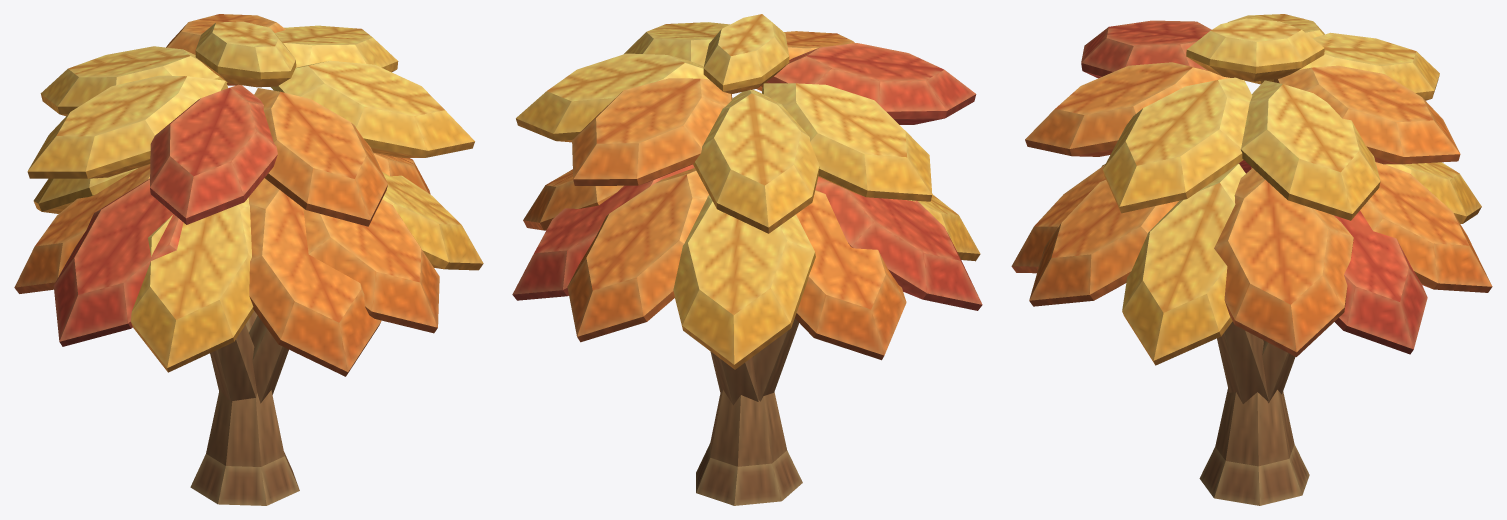
File: autumn_tree.glb
3 views of the same model, side by side, from view 1: azimuth 30°, elevation 25°; view 2: azimuth 150°, elevation 25°; view 3: azimuth 270°, elevation 25° (orthographic).
Visible parts, largest first — view 1: foliage_v3; view 2: foliage_v3; view 3: foliage_v3.
Boxes of the visible parts, x1,y1,x2,y2 form: foliage_v3: (14,14,483,505); foliage_v3: (512,14,982,505); foliage_v3: (1011,14,1492,505).
Bounding box in the file's own units: 21.16 × 22 × 21.09.
1 material, 1 textured.
